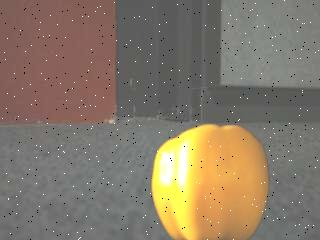Tomato: (150, 124, 269, 240)
